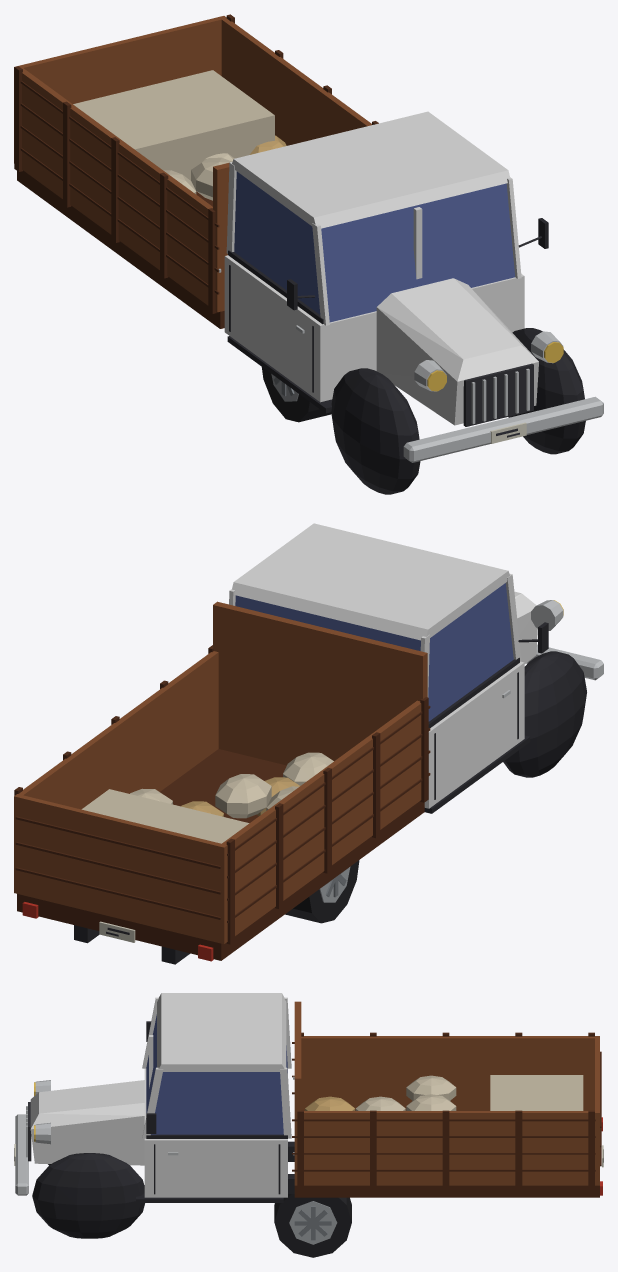
File: truck.glb
3 renders of one model, top to bottom at view 1: azimuth 30°, elevation 25°; view 2: azimuth 150°, elevation 25°; view 3: azimuth 270°, elevation 25°, orthographic. The views are drawn at different scales.
Parts seen in each view (by area): view 1: body, paint, wheel1, lights; view 2: body, paint, wheel1; view 3: body, paint, wheel1.
Part boxes in pixels (<box>): body: <box>14,14,603,494</box>; paint: <box>224,111,538,425</box>; wheel1: <box>261,367,320,422</box>; lights: <box>427,342,563,391</box>; body: <box>14,583,603,964</box>; paint: <box>229,523,537,808</box>; wheel1: <box>285,860,359,923</box>; body: <box>14,1001,603,1238</box>; paint: <box>30,993,291,1197</box>; wheel1: <box>274,1194,351,1257</box>.
Size of the model in its own units: 2.62 by 2.88 by 6.99.
